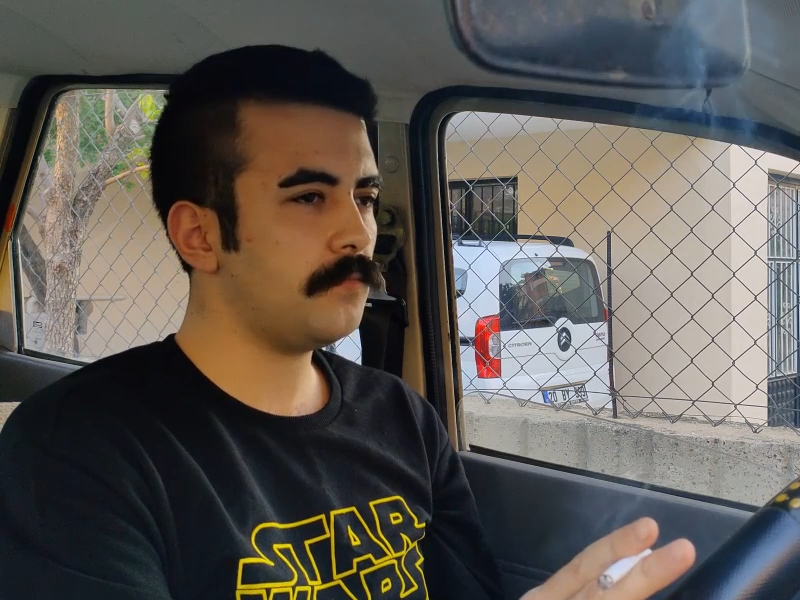sigara: (596, 546, 654, 594)
